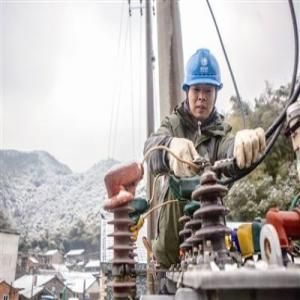blue: (184, 43, 222, 122)
